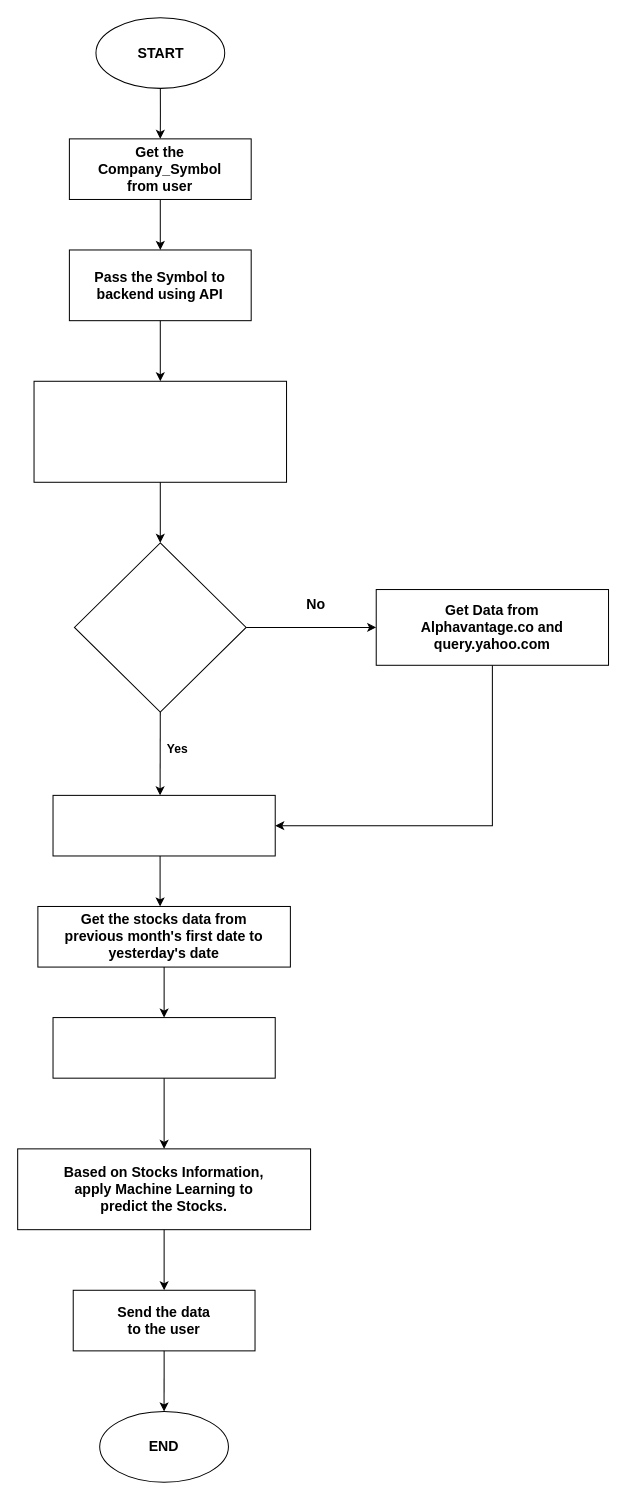
Some shapes in this 626 by 1500 pixel diagram are drawn without their labels. The shapes that lost their labels are listed below. From the top down, each one's box as (x1, y1, x2, y2) in pixels, then its label:
(33, 380, 287, 482): generate data using yahooFinanace libraries
(73, 542, 246, 712): Does the symbol give any output?
(52, 794, 275, 856): Structure Data and store to json format
(52, 1017, 275, 1078): Store Stocks Data to json format
